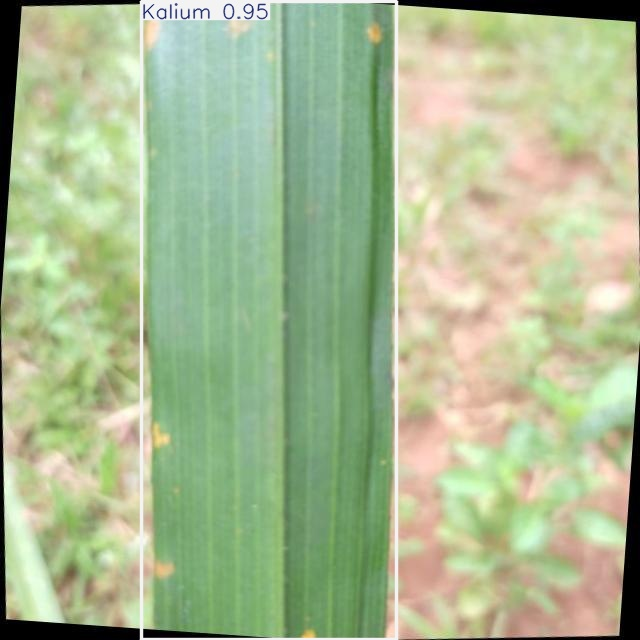Kalium: (142, 1, 397, 639)
